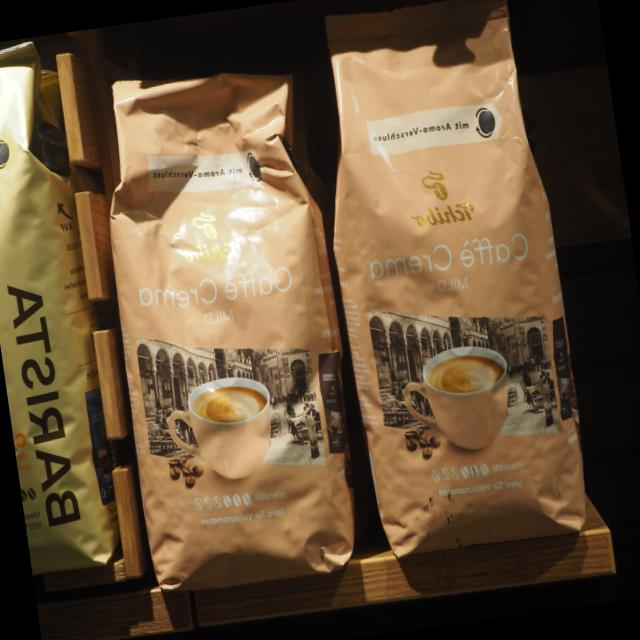CC Mild: (295, 0, 604, 571), (76, 50, 380, 606)
